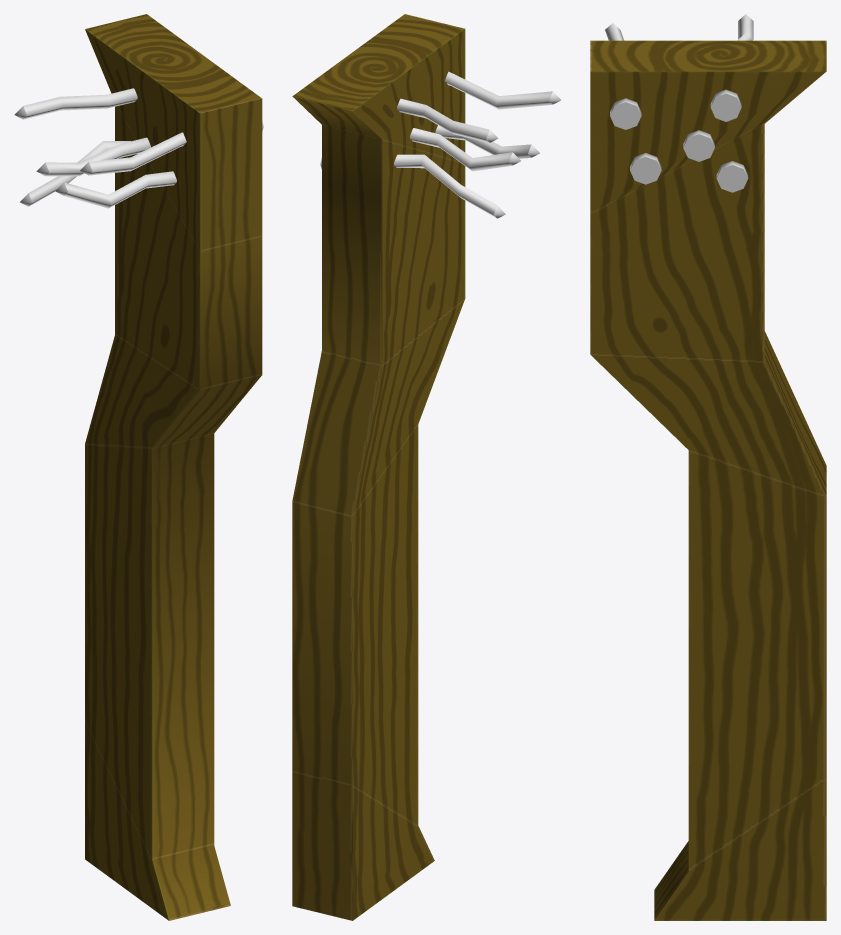
The model's file is Lankku02.fbx.
3 views of the same model, side by side, from view 1: azimuth 30°, elevation 25°; view 2: azimuth 150°, elevation 25°; view 3: azimuth 270°, elevation 25° (orthographic). The views are drawn at different scales.
Parts seen in each view (by area): view 1: Lankku, Naula002, Naula001, Naula004, Naula003, Naula; view 2: Lankku, Naula004, Naula, Naula003, Naula002, Naula001; view 3: Lankku, Naula002, Naula004, Naula, Naula001, Naula003.
Part boxes in pixels (<box>): Lankku: <box>85,14,262,920</box>; Naula002: <box>14,88,137,119</box>; Naula001: <box>55,171,176,208</box>; Naula004: <box>80,120,263,175</box>; Naula003: <box>36,137,150,176</box>; Naula: <box>20,141,130,206</box>; Lankku: <box>292,14,465,920</box>; Naula004: <box>445,71,561,109</box>; Naula: <box>320,154,505,218</box>; Naula003: <box>409,128,520,171</box>; Naula002: <box>397,98,498,142</box>; Naula001: <box>435,125,539,158</box>; Lankku: <box>590,40,826,920</box>; Naula002: <box>710,14,753,121</box>; Naula004: <box>605,23,641,129</box>; Naula: <box>716,161,748,192</box>; Naula001: <box>630,153,661,184</box>; Naula003: <box>683,130,714,161</box>.
Size of the model in its own units: 34.87 by 150 by 37.79.
